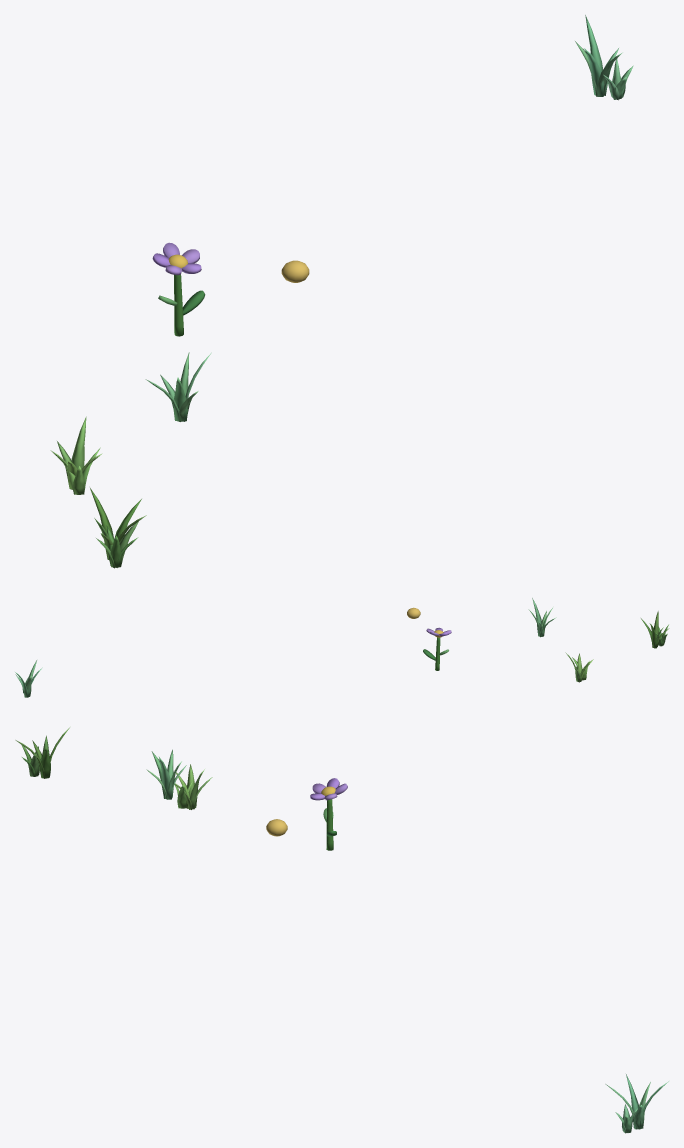
File: W3_FloraRing_12_8.fbx
3 views of the same model, one above another, from view 1: azimuth 30°, elevation 25°; view 2: azimuth 150°, elevation 25°; view 3: azimuth 270°, elevation 25° (orthographic). The views are drawn at different scales.
Parts seen in each view (by area): view 1: W3_FloraRing_12_8; view 2: W3_FloraRing_12_8; view 3: W3_FloraRing_12_8.
Part boxes in pixels (<box>): W3_FloraRing_12_8: <box>50,15,633,568</box>; W3_FloraRing_12_8: <box>15,598,669,697</box>; W3_FloraRing_12_8: <box>15,727,668,1133</box>.
Bounding box in the file's own units: 1.87 × 0.2774 × 1.5.
